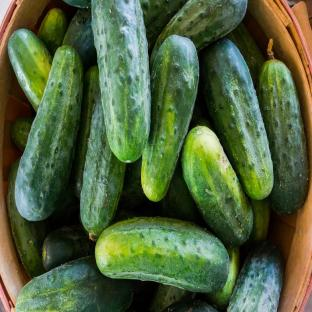Cucumber: (16, 46, 82, 220), (202, 39, 273, 199), (96, 217, 228, 292), (142, 35, 198, 201), (182, 127, 252, 247), (258, 60, 308, 214), (150, 0, 247, 68), (16, 256, 133, 311), (81, 93, 125, 239), (7, 159, 48, 278), (228, 242, 283, 311), (72, 66, 100, 198), (8, 29, 52, 111), (160, 161, 205, 224), (226, 23, 265, 85), (43, 225, 95, 271), (205, 248, 239, 311), (63, 8, 96, 71), (49, 179, 79, 229), (119, 158, 147, 209), (243, 198, 270, 250), (38, 8, 67, 56), (149, 284, 195, 311), (11, 116, 34, 152), (163, 299, 217, 311), (113, 208, 140, 222), (191, 118, 215, 131)
